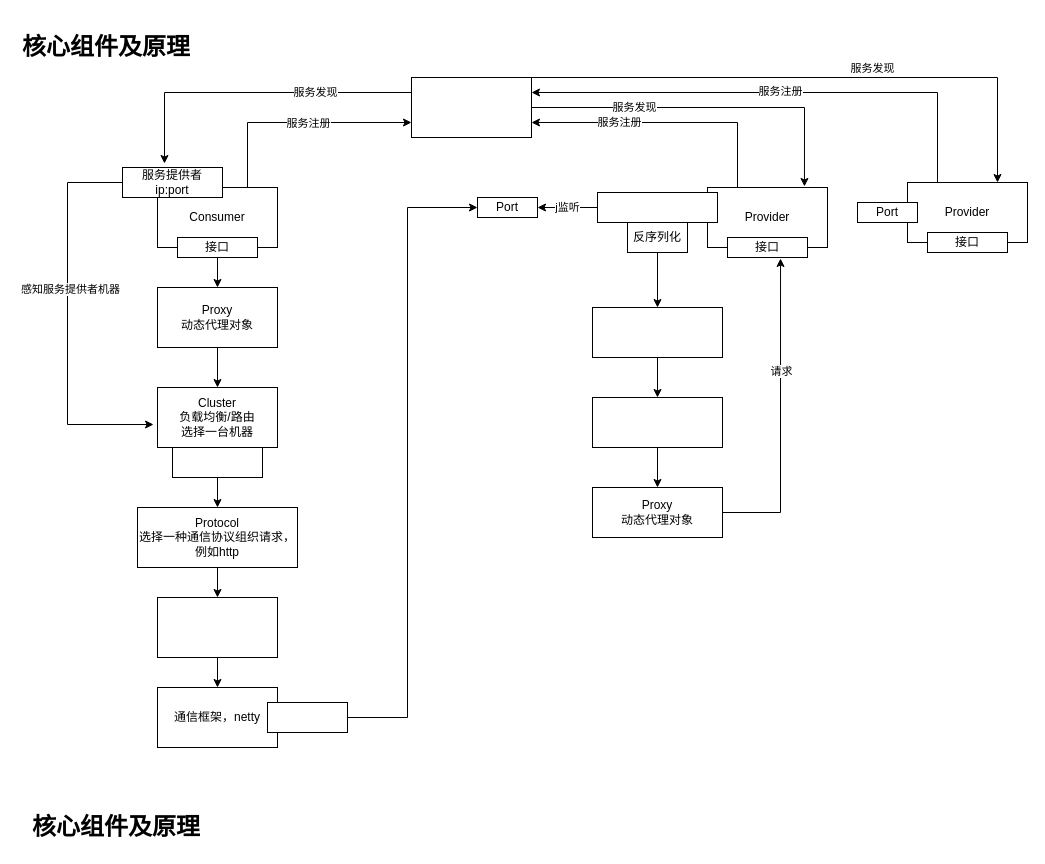
This 1045x864 diagram has some shape labels left out. The centre of each missing label's shape, as x and y in pixels:
Exchange 解析Request: point 657,332
Exchange 请求封装为Request: point 217,627
LoadBalance: point 217,462
Netty Server: point 657,207
Protocol 选择一种协议解析请求: point 657,422
序列化: point 307,717
注册中心 Zookeeper 提供者：ip/port: point 471,107
